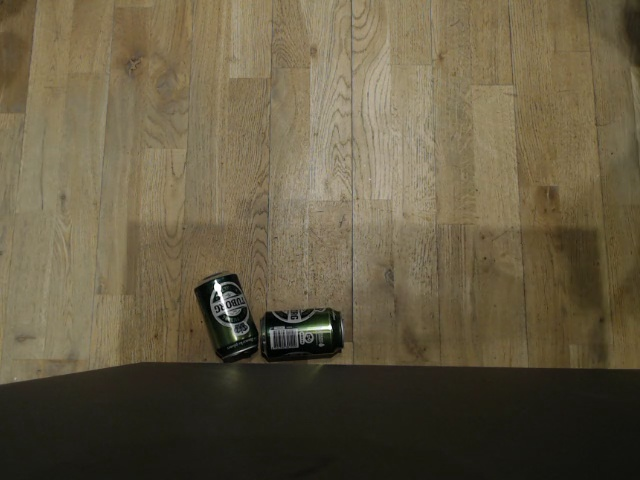beer: (195, 269, 258, 362), (261, 307, 342, 361)
